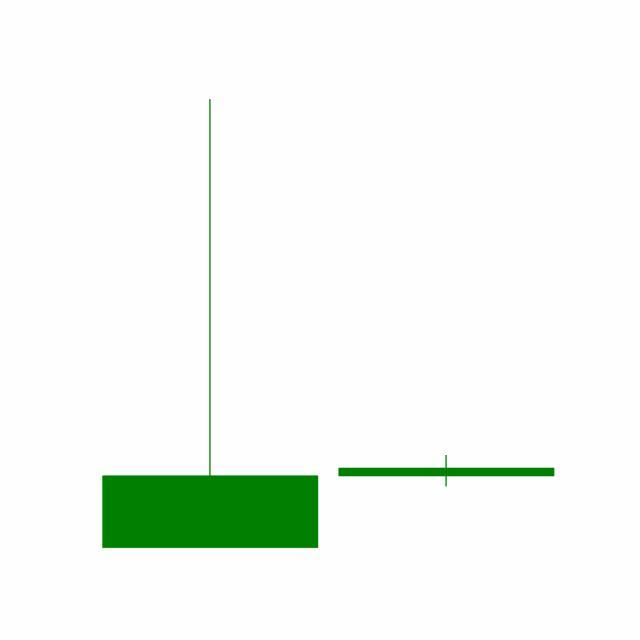Spinning Top: (328, 455, 566, 489)
